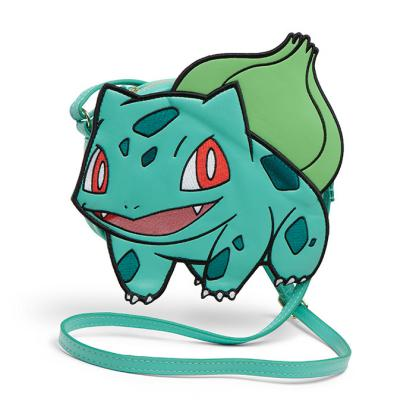Bulbasaur: (70, 15, 390, 392)
